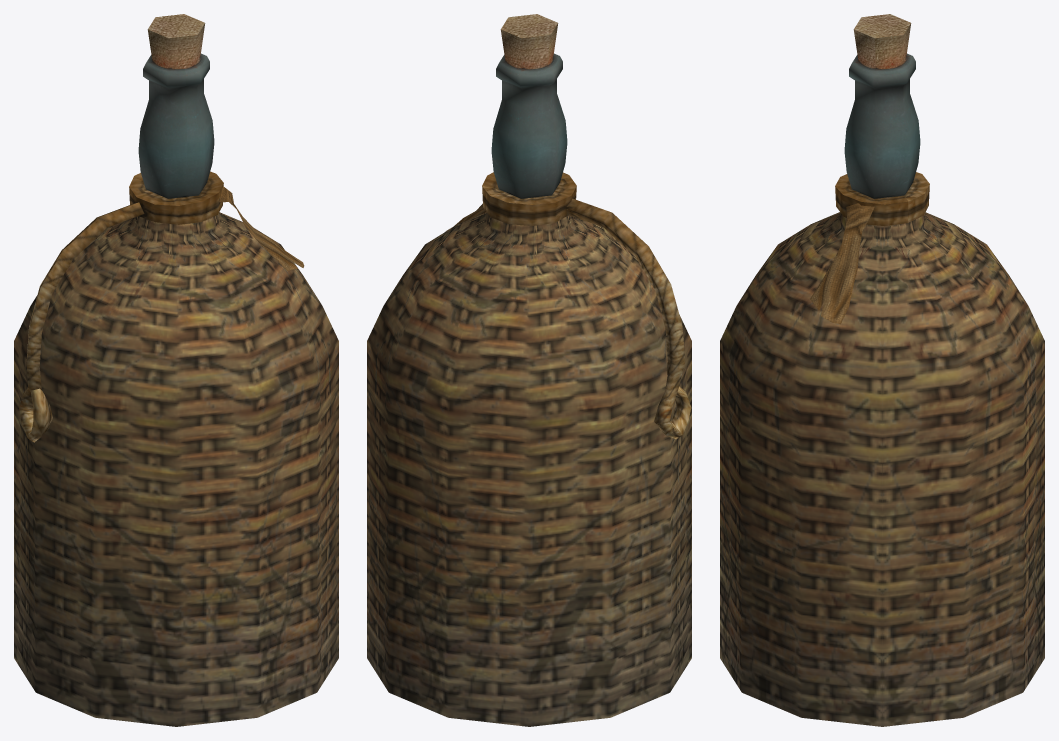
The model's file is MerchantShip_Bottle_03.FBX.
The picture shows the model from 3 angles, left to right: view 1: azimuth 30°, elevation 25°; view 2: azimuth 150°, elevation 25°; view 3: azimuth 270°, elevation 25°; orthographic projection.
Parts seen in each view (by area): view 1: SM_MerchantShip_Bottle_03; view 2: SM_MerchantShip_Bottle_03; view 3: SM_MerchantShip_Bottle_03.
Boxes of the visible parts, left/top/right/bottom form: SM_MerchantShip_Bottle_03: left=14, top=14, right=338, bottom=726; SM_MerchantShip_Bottle_03: left=367, top=14, right=691, bottom=726; SM_MerchantShip_Bottle_03: left=720, top=14, right=1044, bottom=726.
Size of what is drawn, in the model's own units: 16.54 by 15.86 by 34.06.
